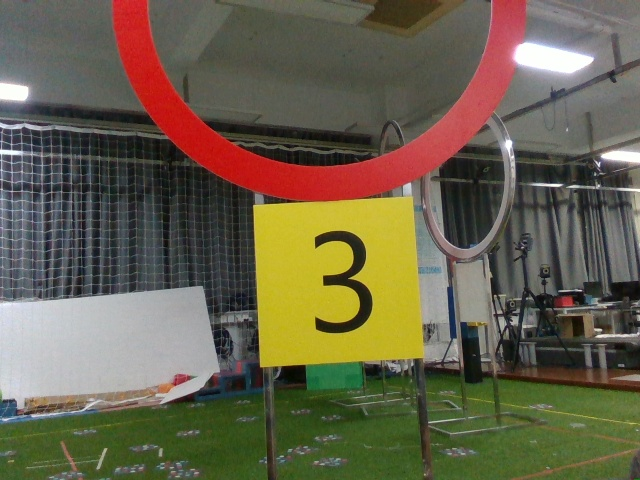target: (264, 199, 410, 362)
